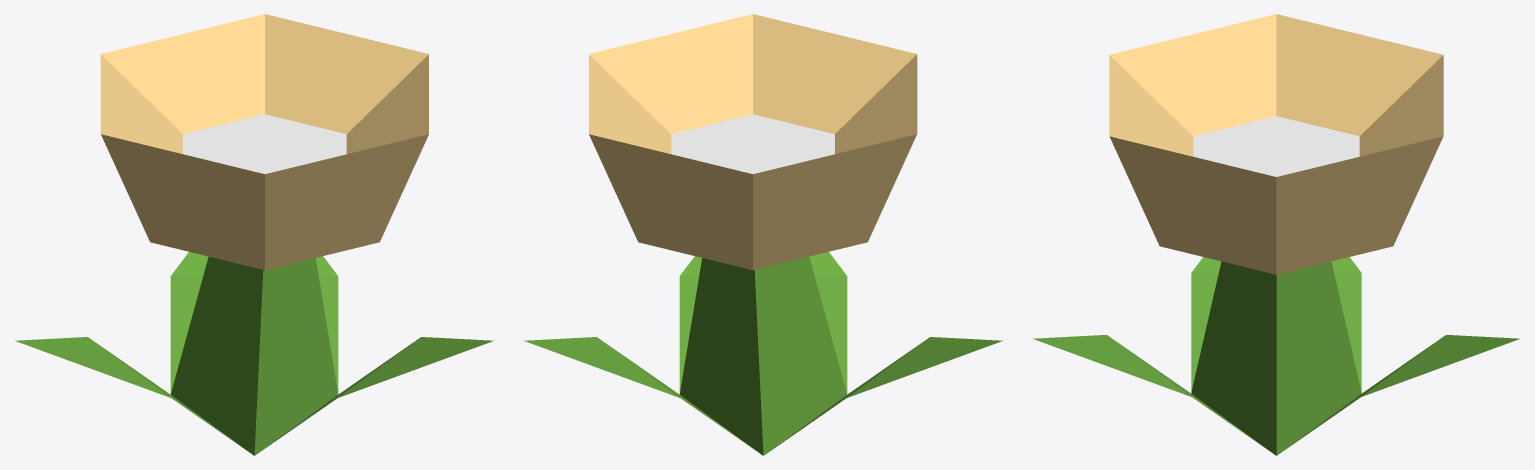
Rendered from flower_yellowC.glb.
3 views of the same model, side by side, from view 1: azimuth 30°, elevation 25°; view 2: azimuth 150°, elevation 25°; view 3: azimuth 270°, elevation 25° (orthographic).
Visible parts, largest first — view 1: flower_yellowC; view 2: flower_yellowC; view 3: flower_yellowC.
Boxes of the visible parts, x1,y1,x2,y2 form: flower_yellowC: (15,14,493,455); flower_yellowC: (524,14,1002,455); flower_yellowC: (1033,14,1519,455).
Size of the model in its own units: 0.1806 by 0.1325 by 0.1811.
